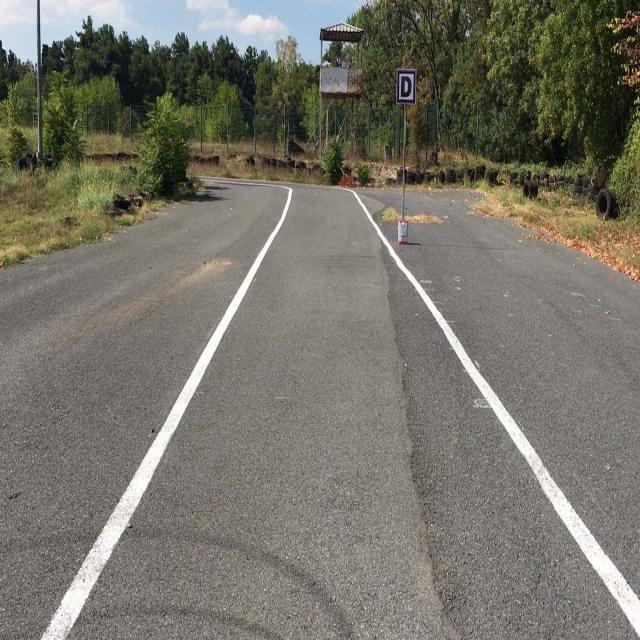durak: (397, 70, 415, 102)
